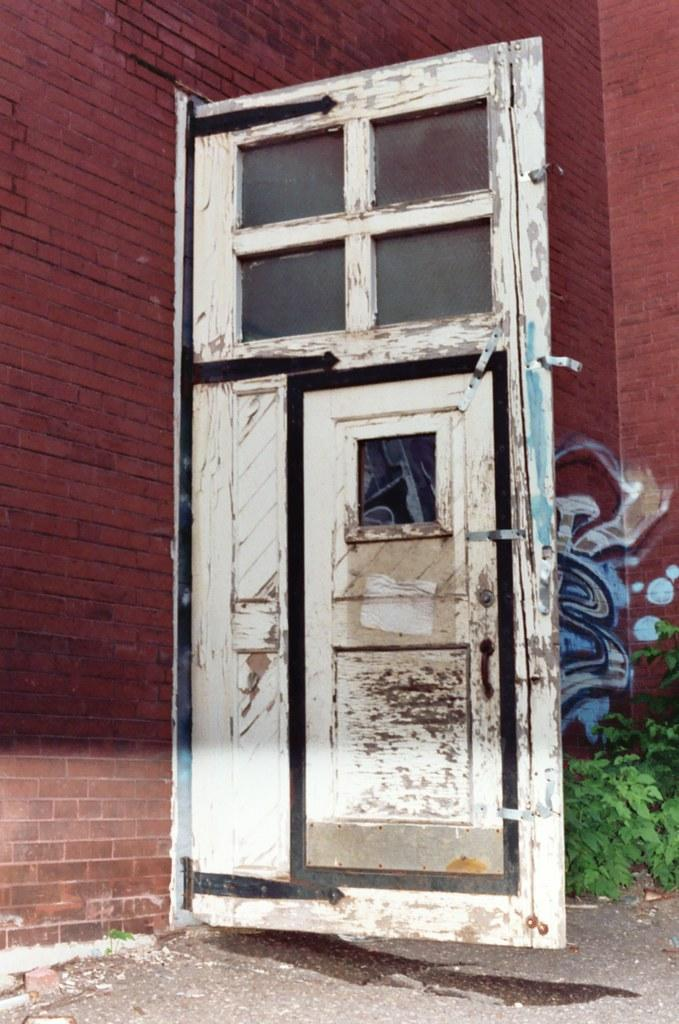door: (177, 37, 569, 951)
